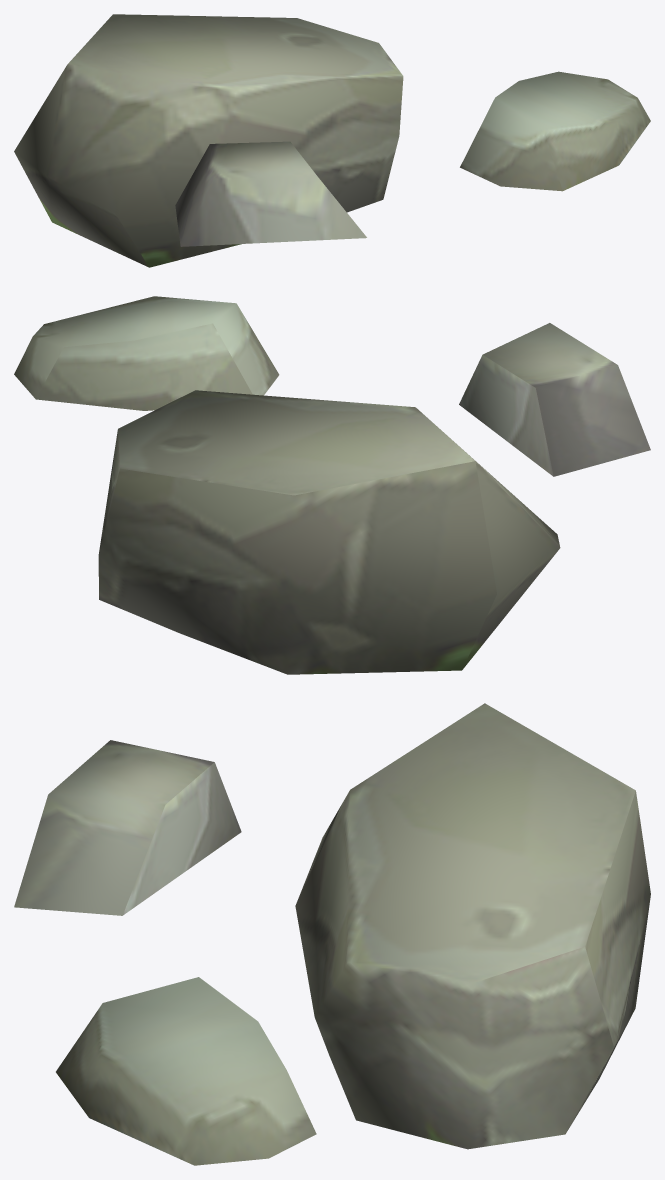
The model's file is Map_04_stone02.FBX.
3 renders of one model, top to bottom at view 1: azimuth 30°, elevation 25°; view 2: azimuth 150°, elevation 25°; view 3: azimuth 270°, elevation 25°, orthographic. The views are drawn at different scales.
Visible parts, largest first — view 1: Map_04_stone02; view 2: Map_04_stone02; view 3: Map_04_stone02.
Boxes of the visible parts, x1,y1,x2,y2 form: Map_04_stone02: [14, 14, 650, 267]; Map_04_stone02: [14, 296, 650, 674]; Map_04_stone02: [14, 703, 650, 1165].
Bounding box in the file's own units: 48.19 × 14.82 × 36.31.
1 material, 1 textured.
